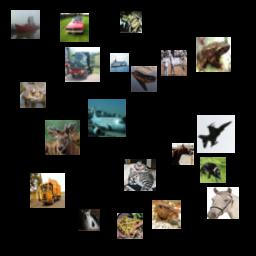airplane: (88, 99, 126, 137), (197, 115, 235, 153), (131, 66, 157, 92)
automobile: (60, 13, 89, 42)
cat: (124, 159, 156, 191), (78, 209, 100, 231)
deer: (45, 120, 80, 155)
dog: (200, 157, 226, 183)
frog: (196, 37, 231, 72), (152, 200, 181, 229), (20, 82, 46, 108), (117, 213, 143, 239), (120, 11, 142, 33)
ship: (11, 10, 40, 39), (110, 53, 129, 72)
truck: (65, 47, 100, 82), (30, 173, 65, 208)
